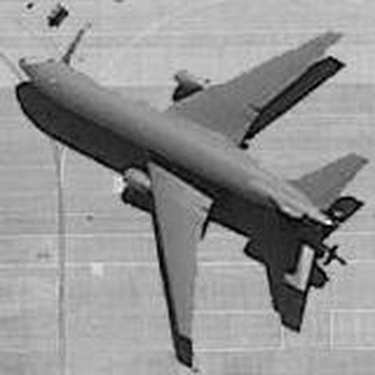airplane: (7, 21, 367, 360)
